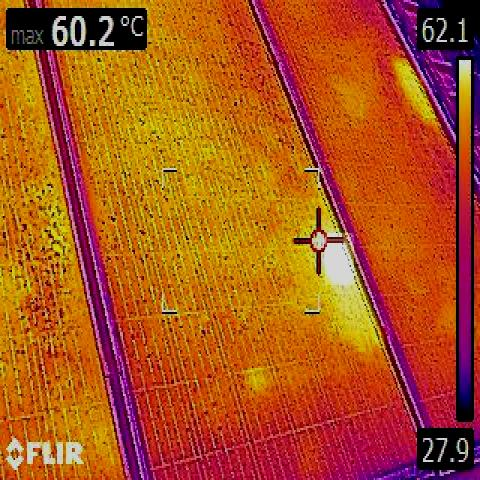fault: (325, 234, 354, 286)
